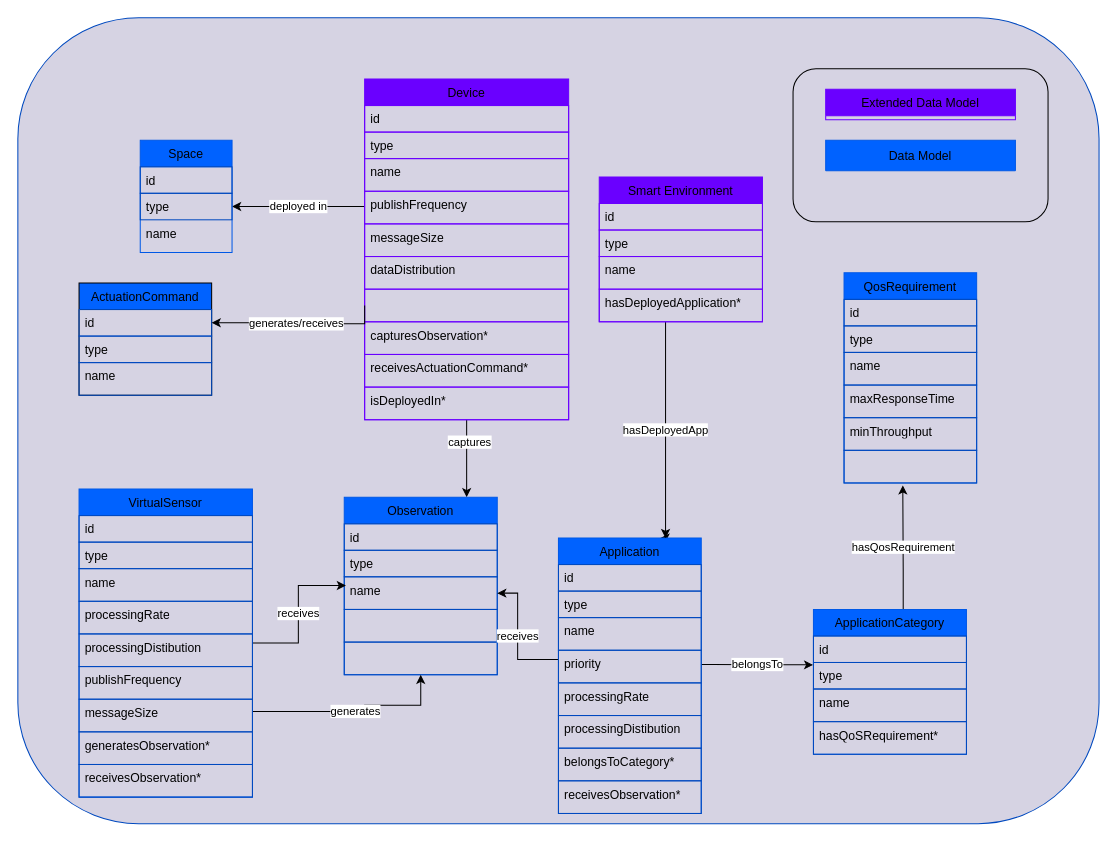
Some shapes in this 1117 by 842 pixel diagram are drawn without their labels. The shapes that lost their labels are listed below. From the top down, each one's centre as x and y in pixels, then its label:
At (466,305): "generatesActuationCommand*".
At (910,466): "maxDropRate".
At (420,625): "isCapturedBy*".
At (420,658): "isReceivedBy*".
